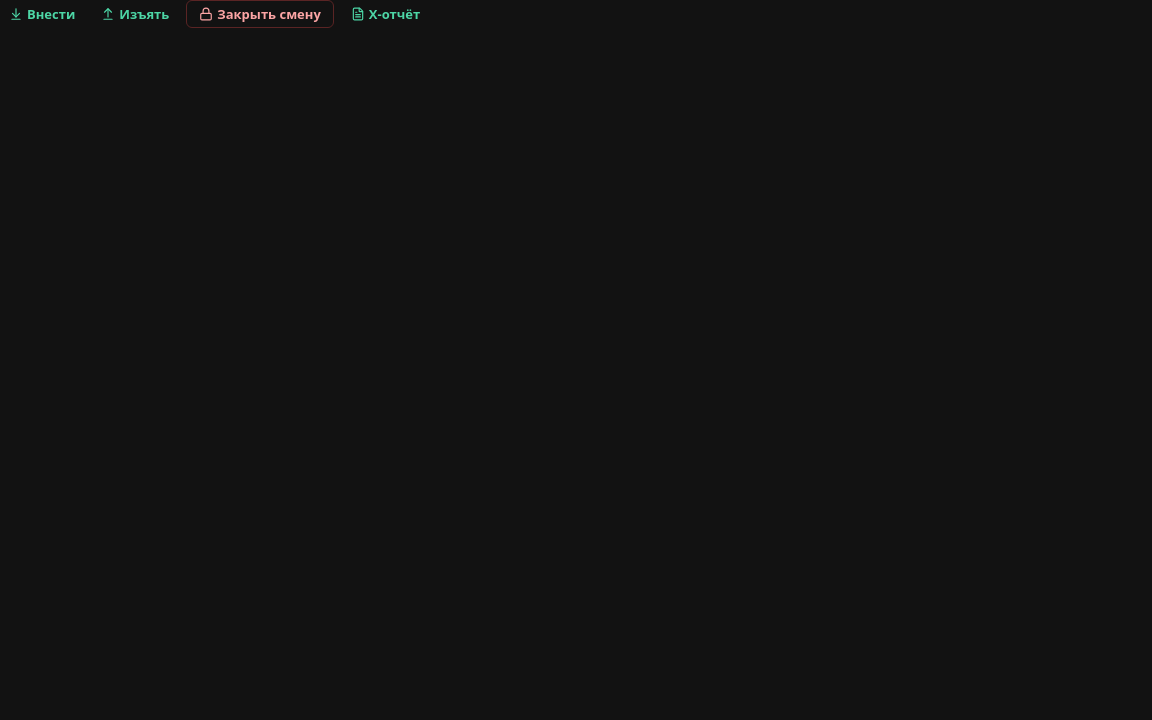
Scenario: CashShiftCommandBar › кнопка X-отчёт открывает форму отчёта по снимку выручки
Click the button "X-отчёт" at (386, 14), box left=342, top=0, right=429, bottom=28
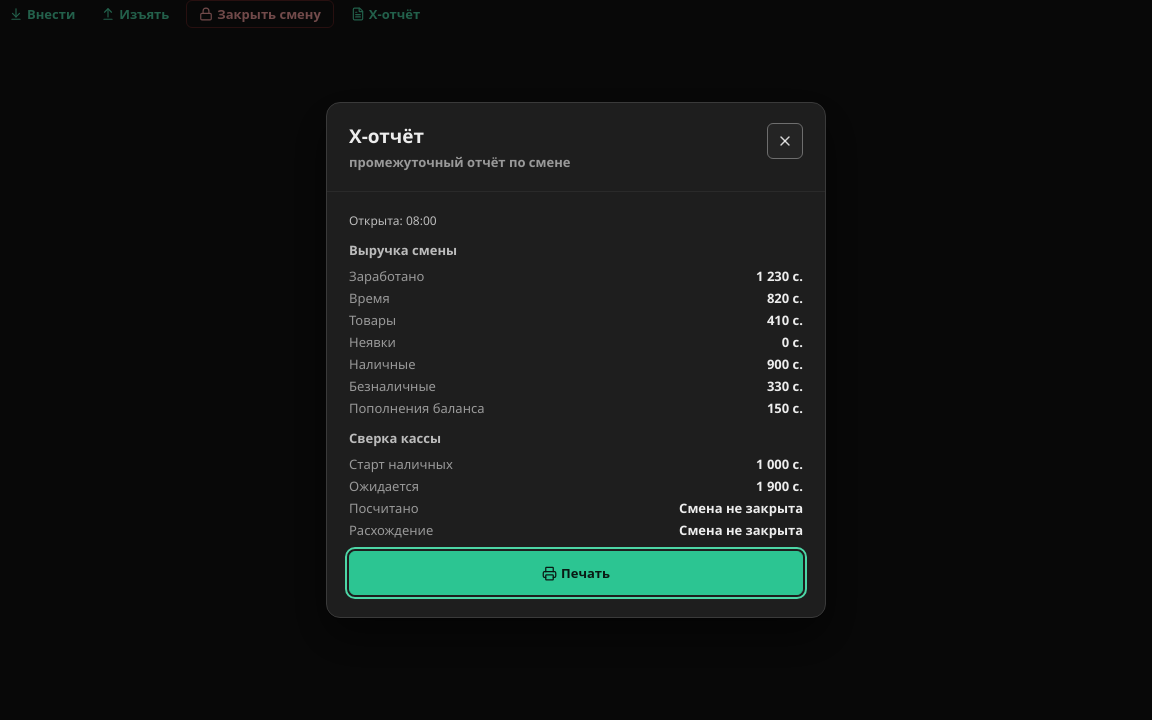
Now the text "X-отчёт" is shown, box left=349, top=123, right=424, bottom=149
Now the heading "Выручка смены" is shown, box left=349, top=241, right=457, bottom=259
